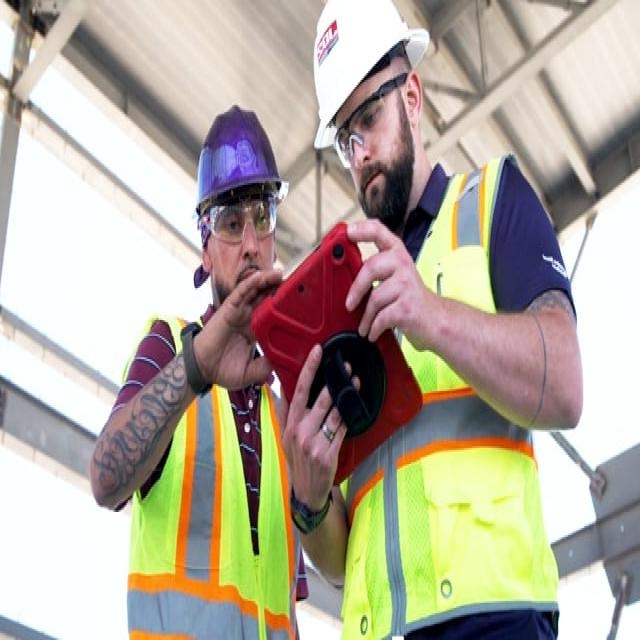goggles: (225, 60, 308, 180), (354, 188, 434, 245)
helmet: (202, 0, 338, 156), (354, 94, 447, 216)
vest: (93, 145, 243, 640), (356, 345, 519, 640)
